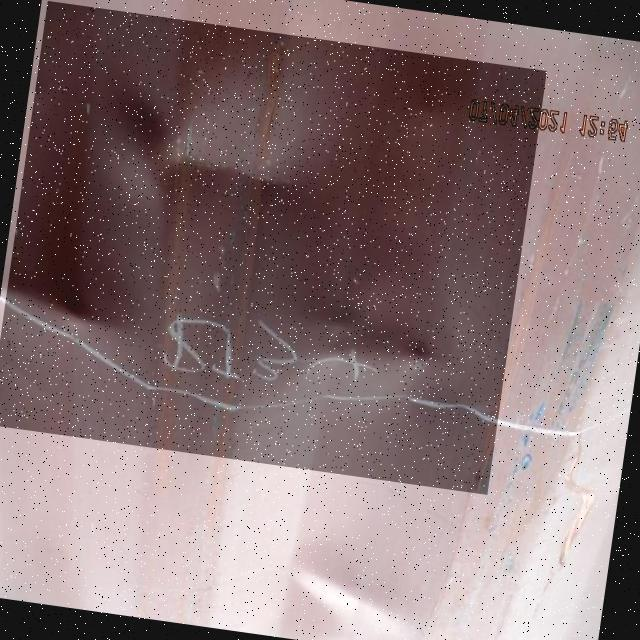Dent: (0, 0, 547, 494)
